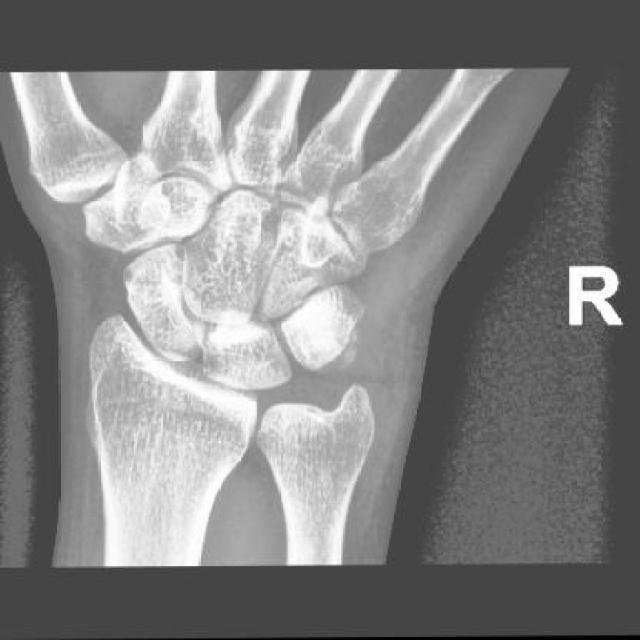Fracture: (303, 314, 365, 372)
